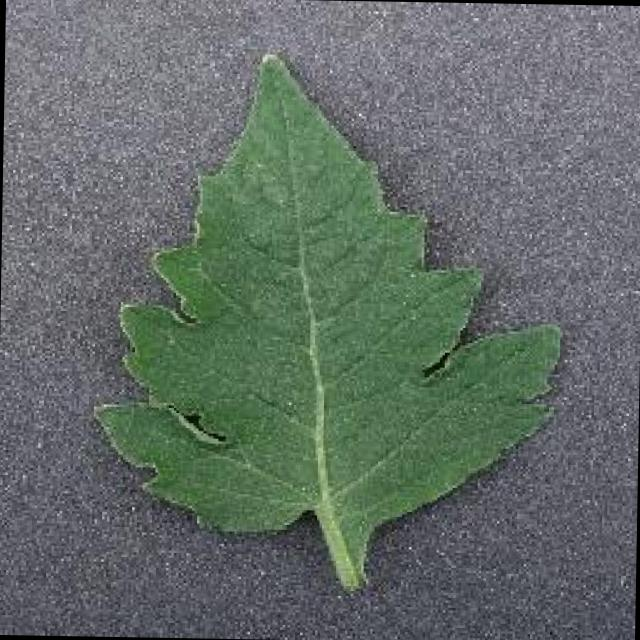Tomato_Healthy: (86, 42, 574, 550)
